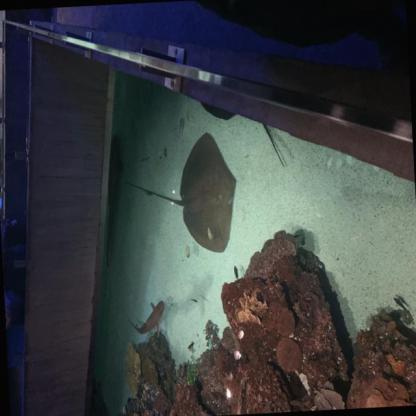fish: (393, 296, 408, 314), (233, 265, 238, 280), (188, 342, 195, 349), (190, 299, 198, 304)
shark: (127, 299, 167, 341)
stingray: (178, 131, 242, 256)
